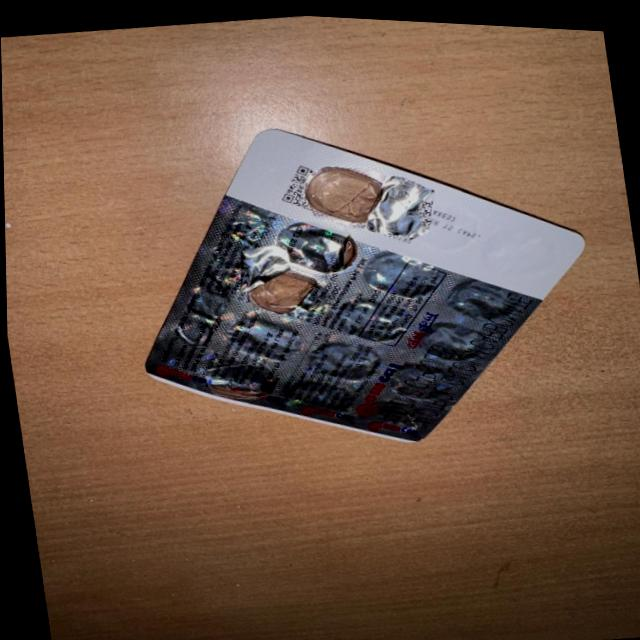medicine: (134, 115, 596, 448)
